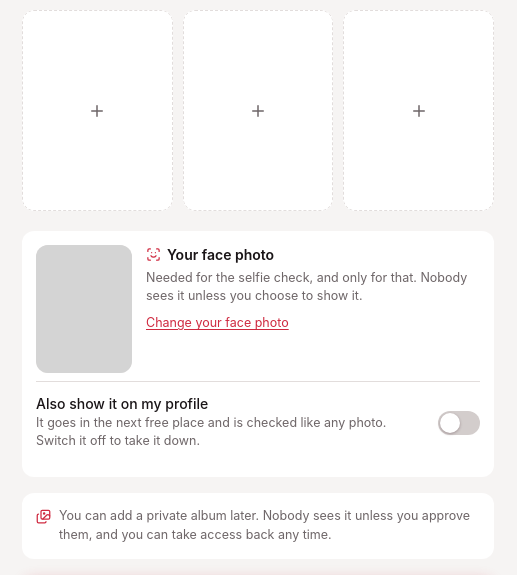
Test: the face photo's slot (T-4.12, D-391) › says when the toggle is refused, with the server's reason
The width and height of the screenshot is (517, 575).
(page scrolled)
What coordinates should you click on to do the following:
click the switch labelled "Also show it on my profile"
I would click on:
 (258, 423)
Its box is [36, 382, 480, 463].
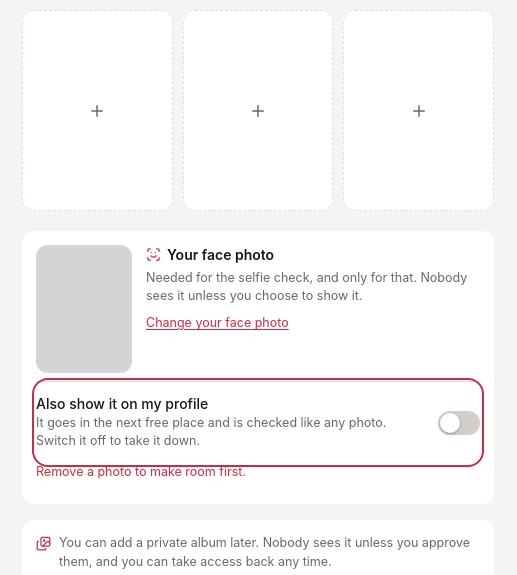
Check: the message reads "Remove a photo to make room first.", box [36, 464, 246, 479]
